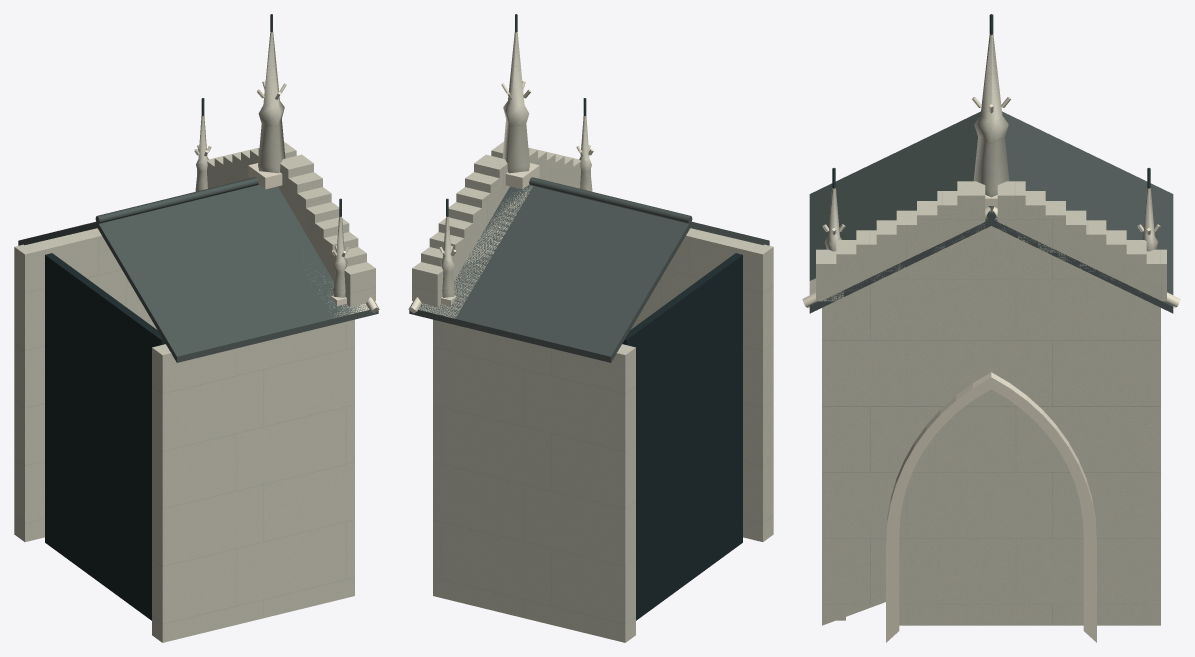
Rendered from KOL_T1_ST_PAULS__02_EntrancePorches.fbx.
3 views of the same model, side by side, from view 1: azimuth 30°, elevation 25°; view 2: azimuth 150°, elevation 25°; view 3: azimuth 270°, elevation 25° (orthographic). The views are drawn at different scales.
Visible parts, largest first — view 1: KOL_T1_ST_PAULS__02_EntrancePorches__KOL_T1_B4_Stone_00, KOL_T1_ST_PAULS__02_EntrancePorches__KOL_T1_B4_Dark_00, KOL_T1_ST_PAULS__02_EntrancePorches__KOL_T1_B4_Slate_00, KOL_T1_ST_PAULS__02_EntrancePorches__KOL_T1_B4_Trim_00; view 2: KOL_T1_ST_PAULS__02_EntrancePorches__KOL_T1_B4_Stone_00, KOL_T1_ST_PAULS__02_EntrancePorches__KOL_T1_B4_Dark_00, KOL_T1_ST_PAULS__02_EntrancePorches__KOL_T1_B4_Slate_00, KOL_T1_ST_PAULS__02_EntrancePorches__KOL_T1_B4_Trim_00; view 3: KOL_T1_ST_PAULS__02_EntrancePorches__KOL_T1_B4_Stone_00, KOL_T1_ST_PAULS__02_EntrancePorches__KOL_T1_B4_Slate_00, KOL_T1_ST_PAULS__02_EntrancePorches__KOL_T1_B4_Trim_00.
Part boxes in pixels (left/top/right/bottom): KOL_T1_ST_PAULS__02_EntrancePorches__KOL_T1_B4_Stone_00: left=14, top=31, right=375, bottom=642; KOL_T1_ST_PAULS__02_EntrancePorches__KOL_T1_B4_Dark_00: left=45, top=253, right=165, bottom=620; KOL_T1_ST_PAULS__02_EntrancePorches__KOL_T1_B4_Slate_00: left=18, top=177, right=378, bottom=362; KOL_T1_ST_PAULS__02_EntrancePorches__KOL_T1_B4_Trim_00: left=191, top=81, right=379, bottom=313; KOL_T1_ST_PAULS__02_EntrancePorches__KOL_T1_B4_Stone_00: left=412, top=31, right=773, bottom=642; KOL_T1_ST_PAULS__02_EntrancePorches__KOL_T1_B4_Dark_00: left=622, top=253, right=742, bottom=620; KOL_T1_ST_PAULS__02_EntrancePorches__KOL_T1_B4_Slate_00: left=409, top=177, right=769, bottom=362; KOL_T1_ST_PAULS__02_EntrancePorches__KOL_T1_B4_Trim_00: left=408, top=81, right=596, bottom=313; KOL_T1_ST_PAULS__02_EntrancePorches__KOL_T1_B4_Stone_00: left=809, top=34, right=1166, bottom=625; KOL_T1_ST_PAULS__02_EntrancePorches__KOL_T1_B4_Slate_00: left=809, top=111, right=1173, bottom=313; KOL_T1_ST_PAULS__02_EntrancePorches__KOL_T1_B4_Trim_00: left=802, top=97, right=1180, bottom=642.
Bounding box in the file's own units: 11.5 × 28.15 × 15.63.
5 materials, 1 textured.
